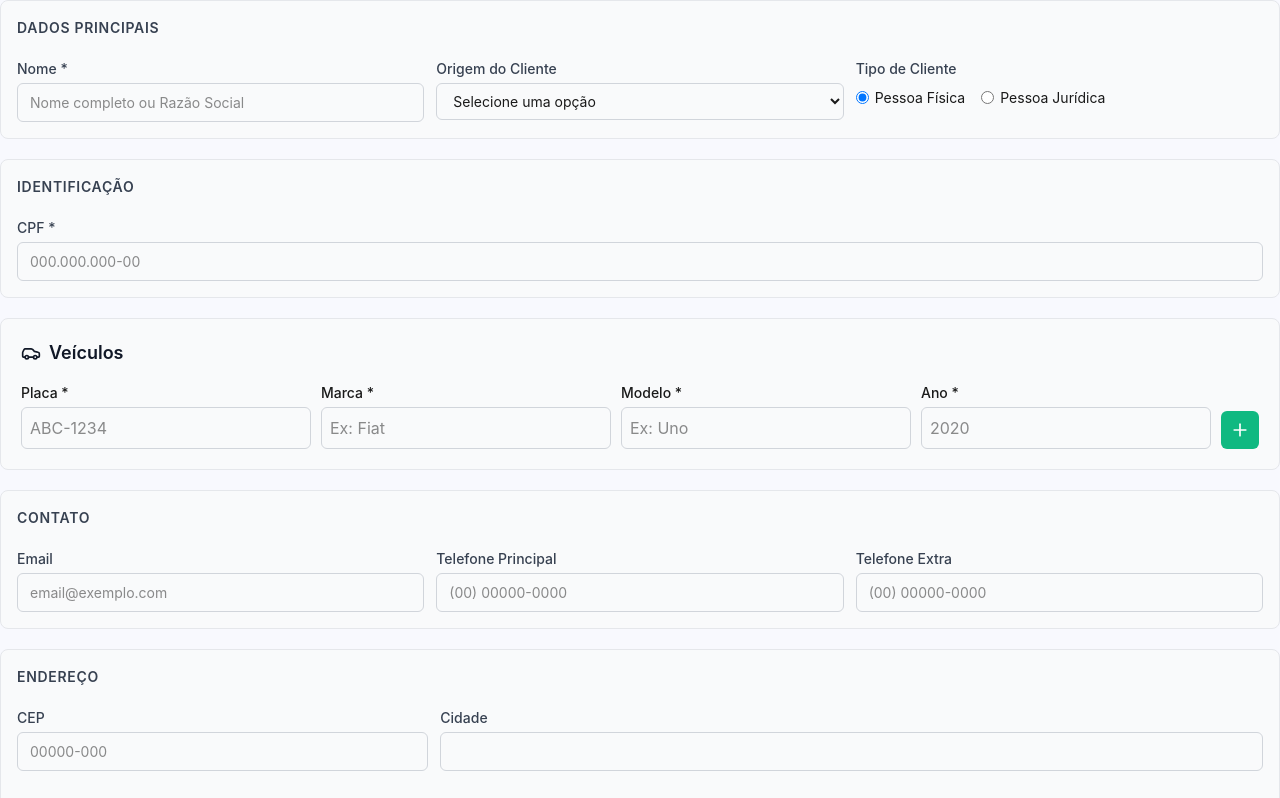
Test: ClientForm › should toggle between CPF and CNPJ when type changes
The width and height of the screenshot is (1280, 798).
Click the radio button labelled "Pessoa Jurídica" at x=988, y=98, box [981,91,994,104]
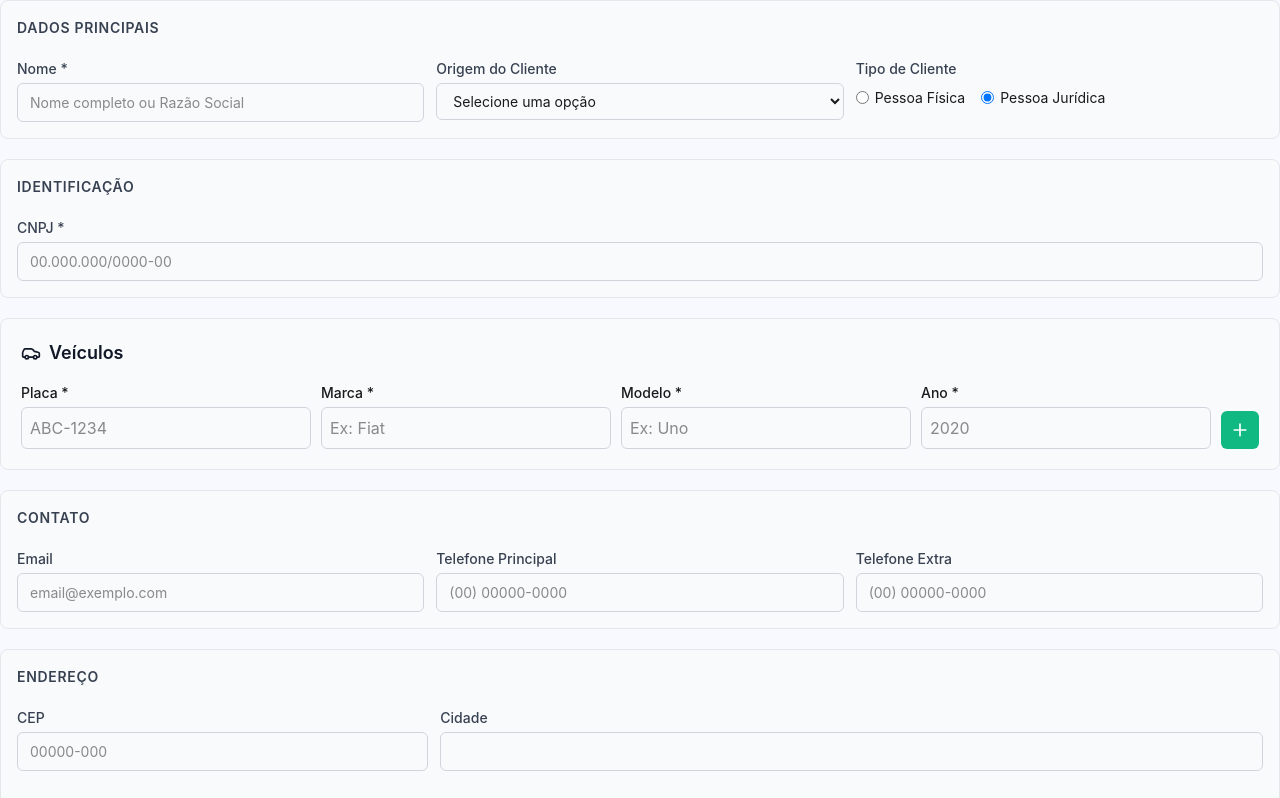
Check: the field with placeholder "000.000.000-00" is not shown
Check: the field with placeholder "00.000.000/0000-00" is shown, box [17,242,1263,281]
Click the radio button labelled "Pessoa Física" at x=862, y=98, box [856,91,869,104]
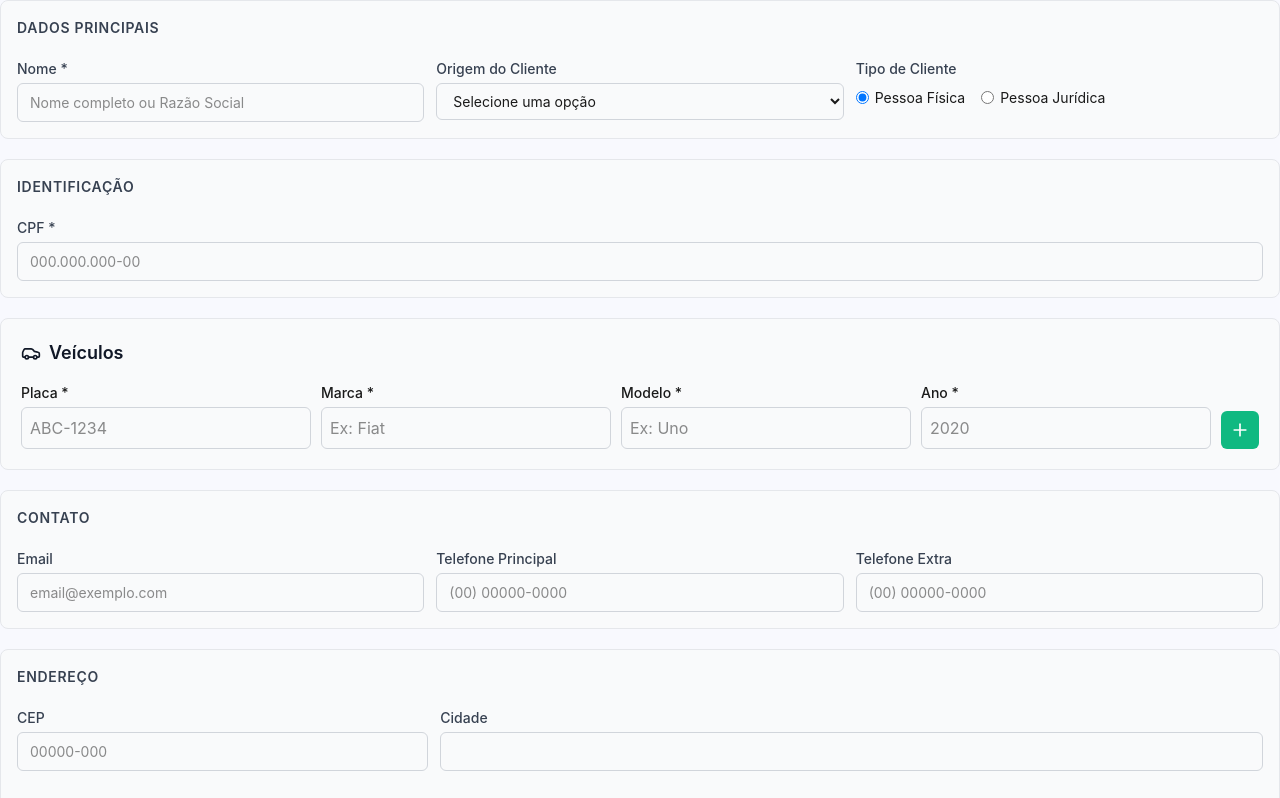
Check: the field with placeholder "00.000.000/0000-00" is not shown
Check: the field with placeholder "000.000.000-00" is shown, box [17,242,1263,281]
